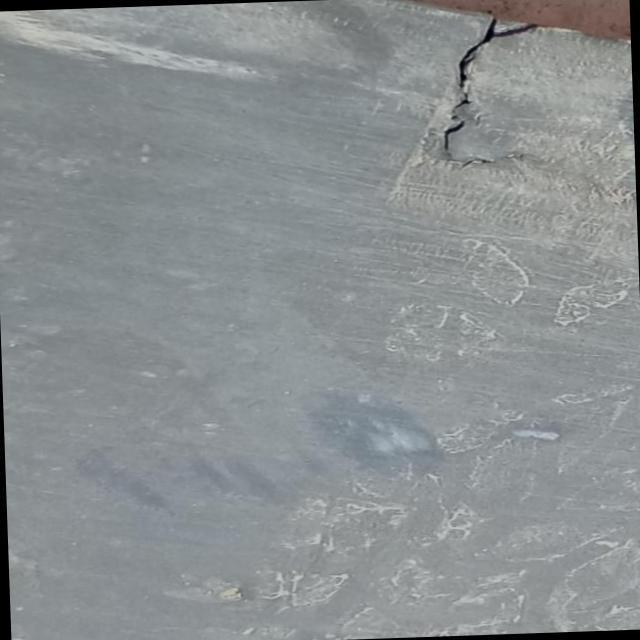Tear: (436, 15, 540, 169)
